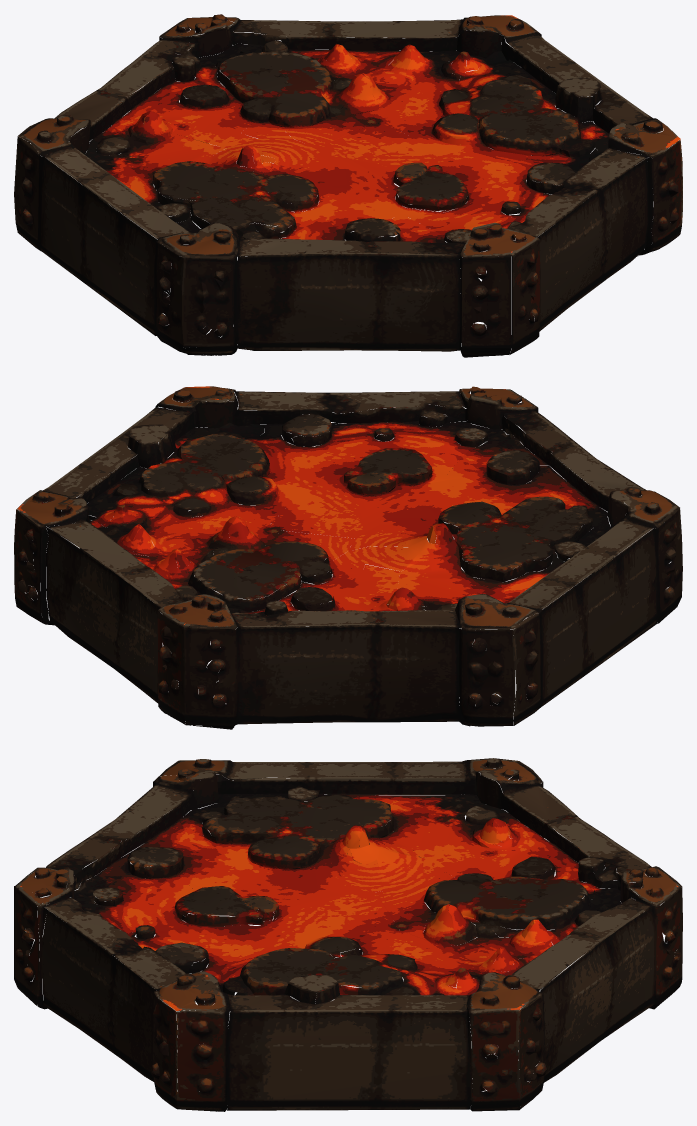
The model's file is tr_slag.glb.
The picture shows the model from 3 angles, top to bottom: view 1: azimuth 30°, elevation 25°; view 2: azimuth 150°, elevation 25°; view 3: azimuth 270°, elevation 25°; orthographic projection. The views are drawn at different scales.
Parts seen in each view (by area): view 1: tr_slag; view 2: tr_slag; view 3: tr_slag.
Boxes of the visible parts, x1,y1,x2,y2 form: tr_slag: (14,14,682,357); tr_slag: (14,386,682,729); tr_slag: (14,758,682,1111).
Bounding box in the file's own units: 1.37 × 0.3132 × 1.5.
1 material, 1 textured.
